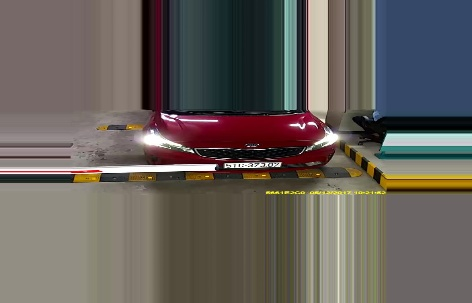plate: (222, 159, 283, 173)
